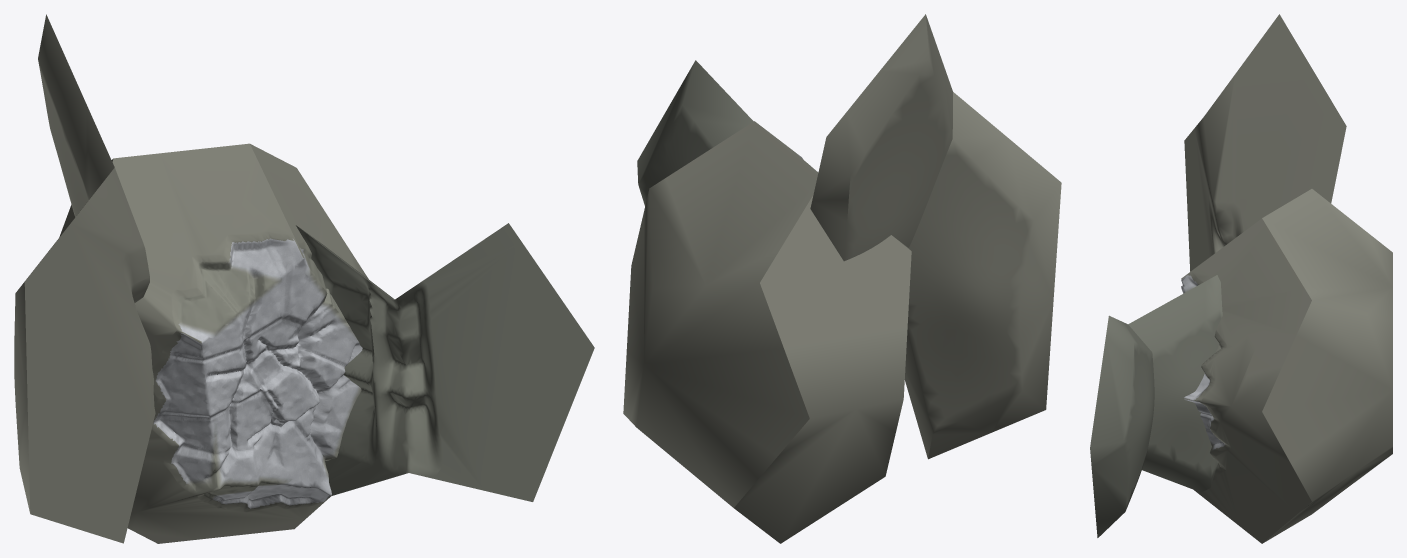
File: first-wall-corrected.glb
The picture shows the model from 3 angles, left to right: view 1: azimuth 30°, elevation 25°; view 2: azimuth 150°, elevation 25°; view 3: azimuth 270°, elevation 25°; orthographic projection. The views are drawn at different scales.
Visible parts, largest first — view 1: Wall_LOD0; view 2: Wall_LOD0; view 3: Wall_LOD0.
Boxes of the visible parts, x1=… form: Wall_LOD0: x1=14, y1=14, x2=594, y2=543; Wall_LOD0: x1=623, y1=14, x2=1061, y2=543; Wall_LOD0: x1=1090, y1=14, x2=1392, y2=543.
Size of what is drawn, in the model's own units: 43.29 by 46.9 by 28.62.
3 materials, 1 textured.
